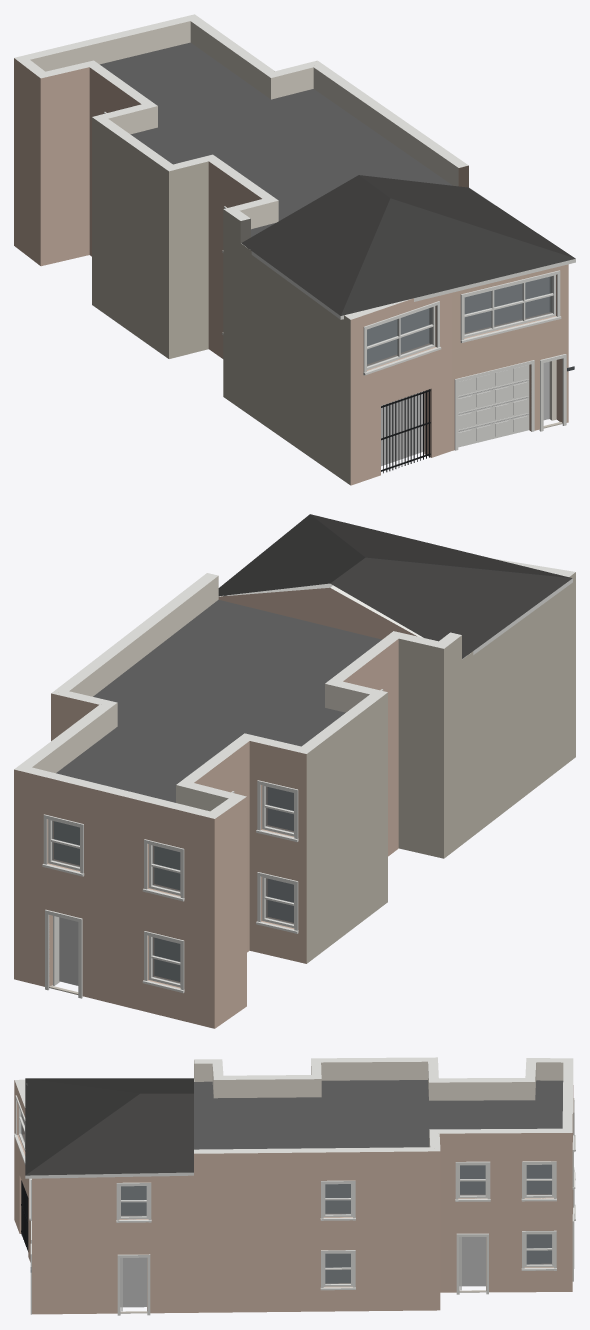
File: exterior.glb
3 views of the same model, one above another, from view 1: azimuth 30°, elevation 25°; view 2: azimuth 150°, elevation 25°; view 3: azimuth 270°, elevation 25° (orthographic). The views are drawn at different scales.
Parts seen in each view (by area): view 1: shell, roof, doors, shadow-proxy, glazing, trim, frames; view 2: shell, roof, shadow-proxy, glazing, trim, gable, frames; view 3: shell, roof, shadow-proxy, trim, glazing, frames, doors.
Part boxes in pixels (x1,y1,x2,y2): shell: [14, 14, 568, 485]; roof: [100, 42, 575, 319]; doors: [381, 360, 562, 473]; shadow-proxy: [367, 277, 549, 466]; glazing: [367, 276, 552, 366]; trim: [104, 112, 574, 431]; frames: [367, 275, 555, 369]; shell: [14, 558, 575, 1028]; roof: [56, 514, 572, 802]; shadow-proxy: [54, 787, 293, 985]; glazing: [52, 786, 293, 983]; trim: [42, 689, 383, 998]; gable: [218, 587, 416, 639]; frames: [48, 785, 294, 987]; shell: [14, 1057, 573, 1314]; roof: [25, 1078, 563, 1178]; shadow-proxy: [120, 1165, 551, 1307]; trim: [14, 1095, 575, 1315]; glazing: [21, 1113, 551, 1283]; frames: [18, 1107, 553, 1286]; doors: [21, 1180, 486, 1313].
Bounding box in the file's own units: 8.03 × 6.55 × 19.05.
